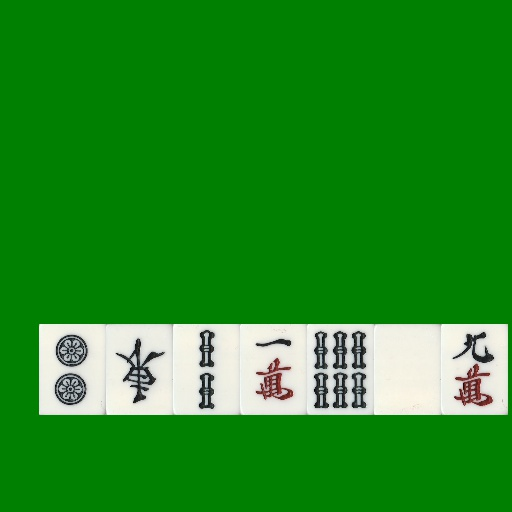1m: (240, 324, 307, 415)
2p: (39, 324, 106, 415)
2s: (173, 324, 240, 415)
6s: (307, 324, 374, 415)
9m: (441, 324, 508, 415)
east: (106, 324, 173, 415)
white: (374, 324, 441, 415)
